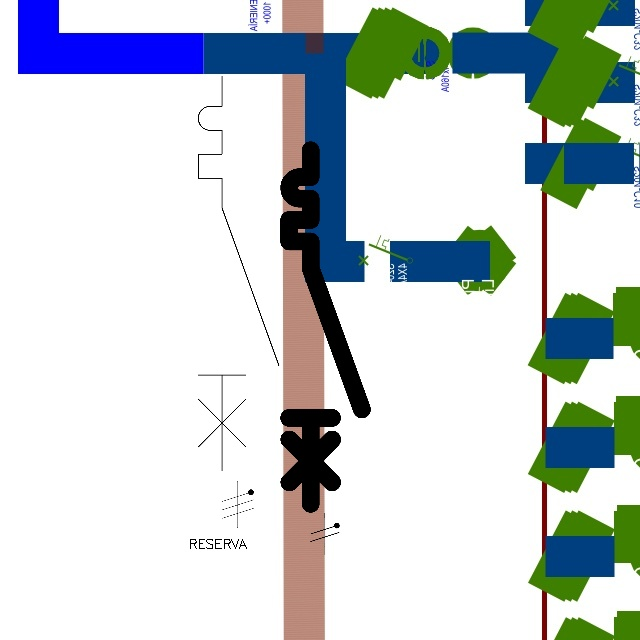interruptor_termomagnetico: (188, 66, 289, 481), (280, 141, 371, 513)
